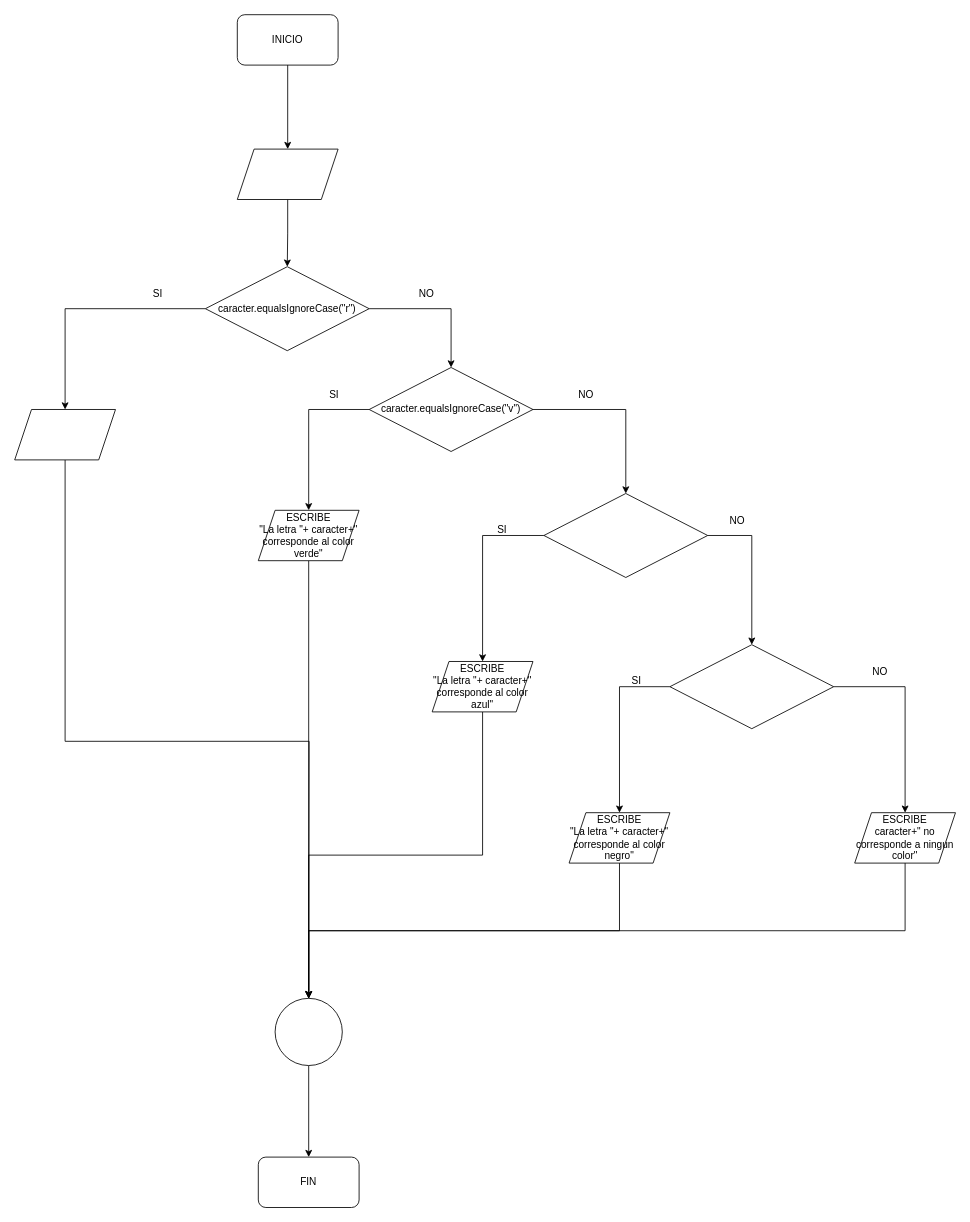
Image size: 970x1222. Some labels were removed from this diagram. Each missing label, with the centre of its shape:
caracter.equalsIgnoreCase("a"): pixel 625 535
caracter.equalsIgnoreCase("n"): pixel 751 686
ESCRIBE "La letra "+ caracter+" corresponde al color rojo": pixel 65 434
ESCRIBIR "Introduce una letra": pixel 287 174
